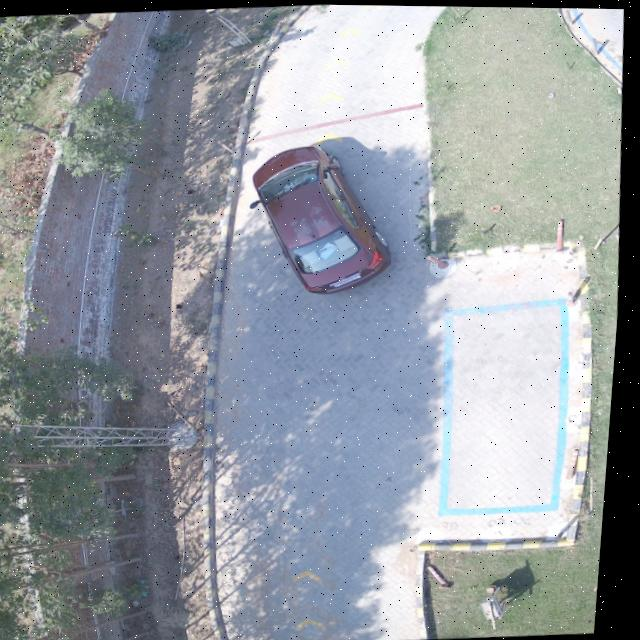car: (254, 143, 394, 292)
